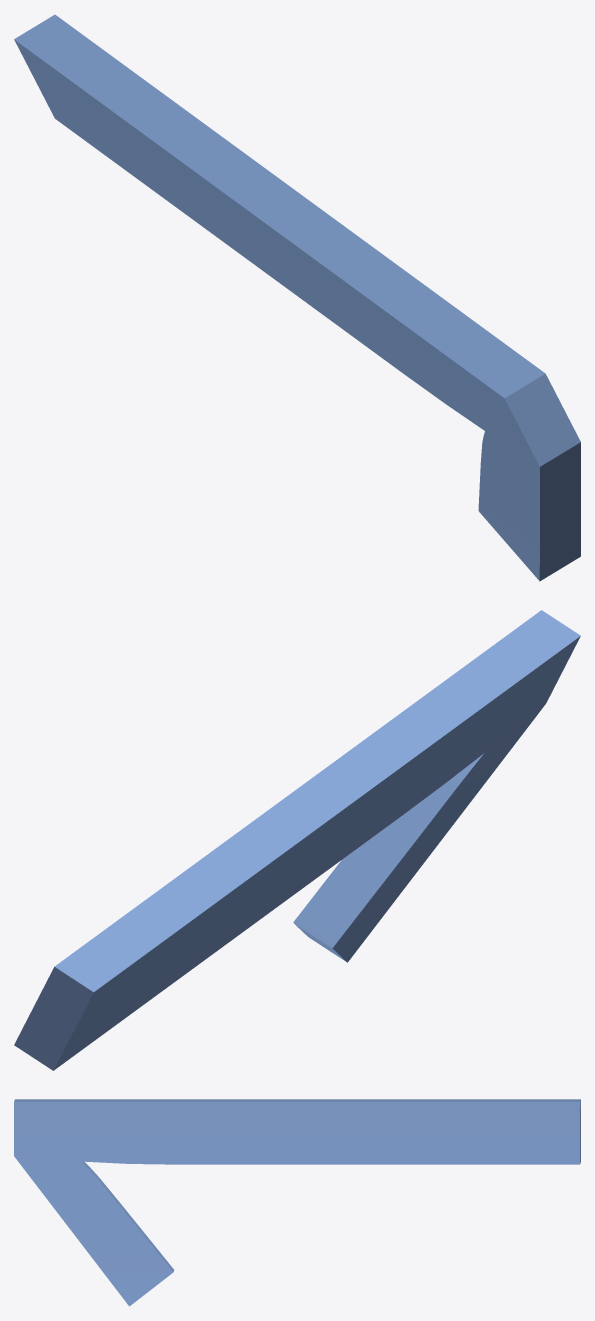
The model's file is New_Number_1.gltf.
3 views of the same model, one above another, from view 1: azimuth 30°, elevation 25°; view 2: azimuth 150°, elevation 25°; view 3: azimuth 270°, elevation 25° (orthographic). The views are drawn at different scales.
Visible parts, largest first — view 1: Part 298; view 2: Part 298; view 3: Part 298.
Part boxes in pixels (x1,y1,x2,y2): Part 298: (14, 14, 580, 581); Part 298: (14, 610, 580, 1070); Part 298: (14, 1099, 580, 1306).
Size of the model in its own units: 0.00104 by 0.00173 by 0.00505.
